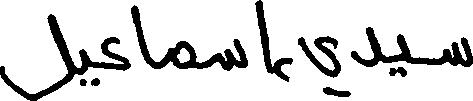X: (0, 9, 71, 100), (298, 31, 340, 100), (352, 22, 380, 71), (256, 0, 273, 78), (132, 0, 150, 70), (102, 32, 128, 75), (220, 34, 247, 75), (444, 32, 472, 71), (173, 36, 194, 73), (397, 29, 409, 81), (80, 44, 90, 90)
